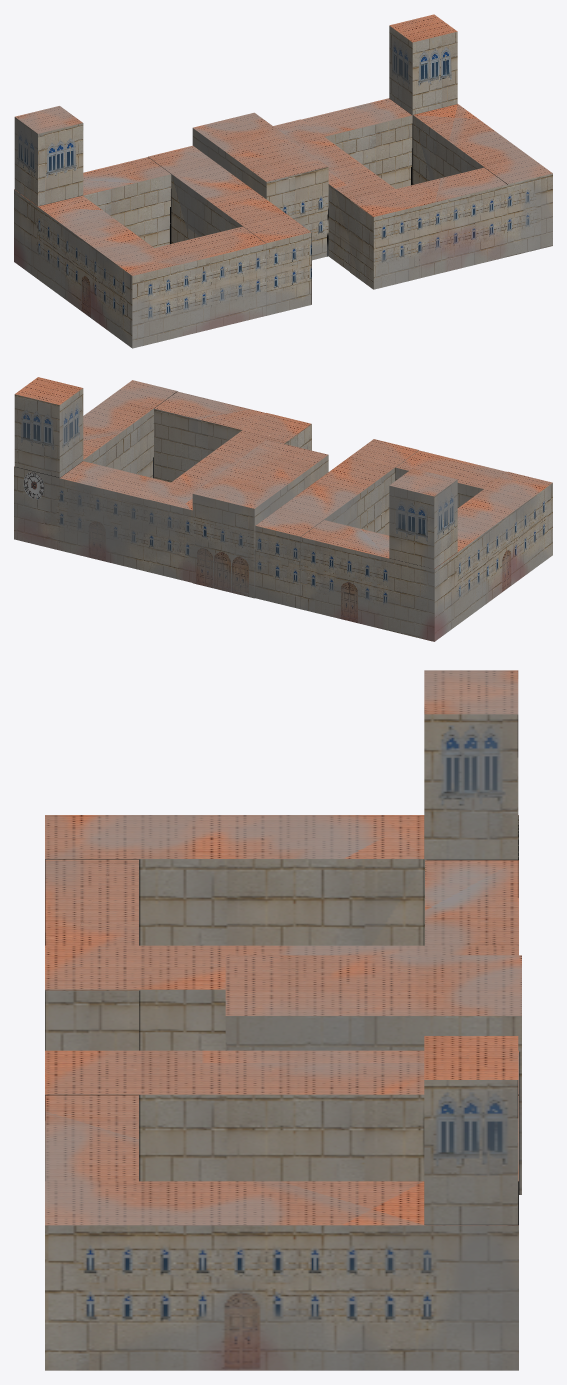
Rendered from universitatlvl1midhealth.fbx.
The picture shows the model from 3 angles, top to bottom: view 1: azimuth 30°, elevation 25°; view 2: azimuth 150°, elevation 25°; view 3: azimuth 270°, elevation 25°; orthographic projection. The views are drawn at different scales.
Parts seen in each view (by area): view 1: EntradaCentro.006; view 2: EntradaCentro.006; view 3: EntradaCentro.006.
Part boxes in pixels (x1=…): EntradaCentro.006: x1=14, y1=14, x2=552, y2=348; EntradaCentro.006: x1=14, y1=377, x2=552, y2=641; EntradaCentro.006: x1=45, y1=670, x2=521, y2=1370.
Bounding box in the file's own units: 7867 × 2595 × 3863.
